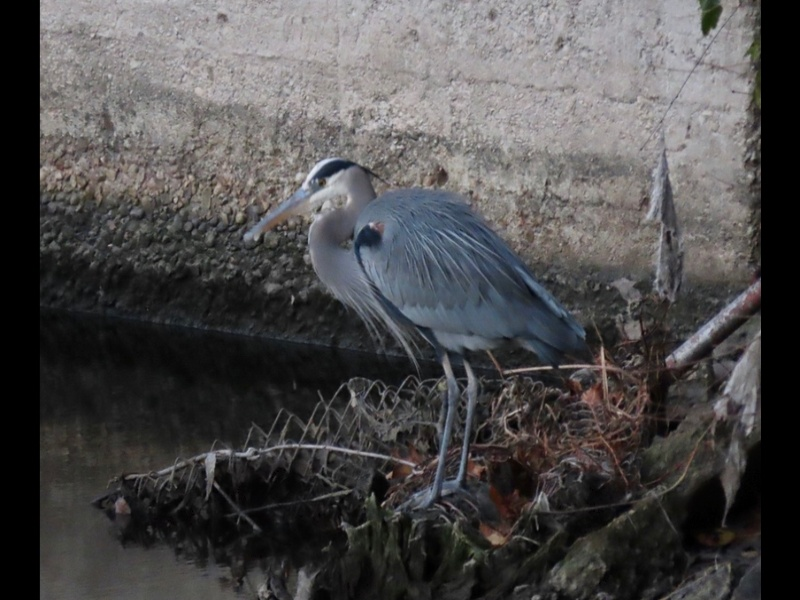heron: (237, 153, 589, 508)
